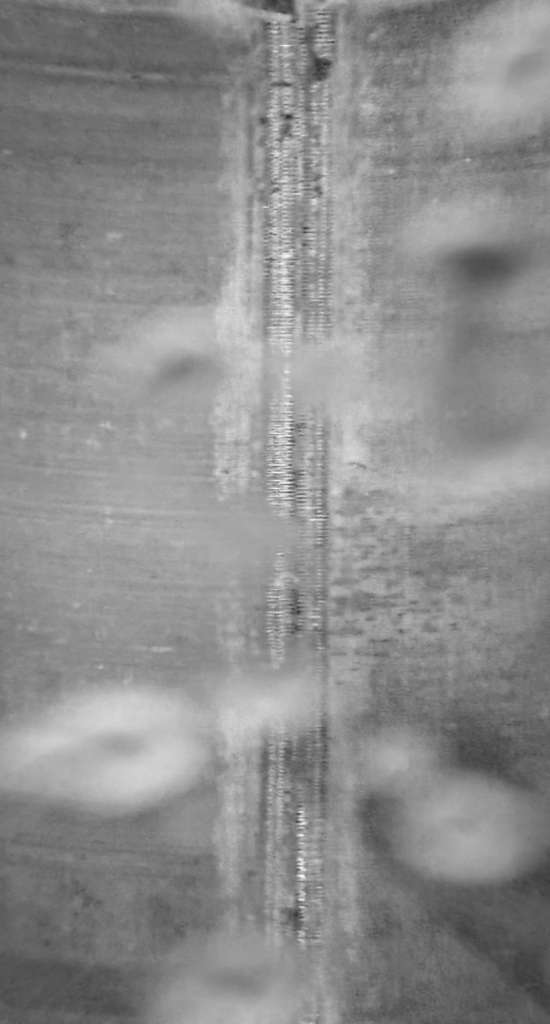splice: (236, 1, 338, 1016)
